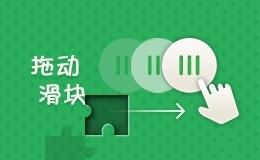target: (64, 75, 106, 115)
